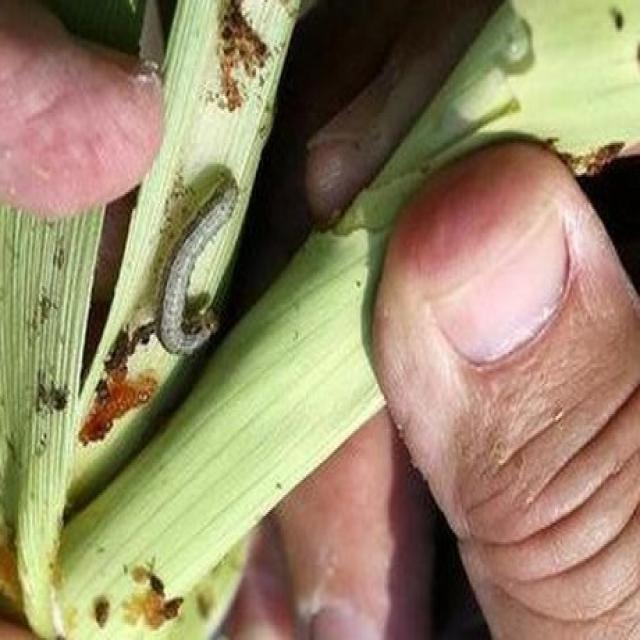army worm: (149, 179, 238, 350)
